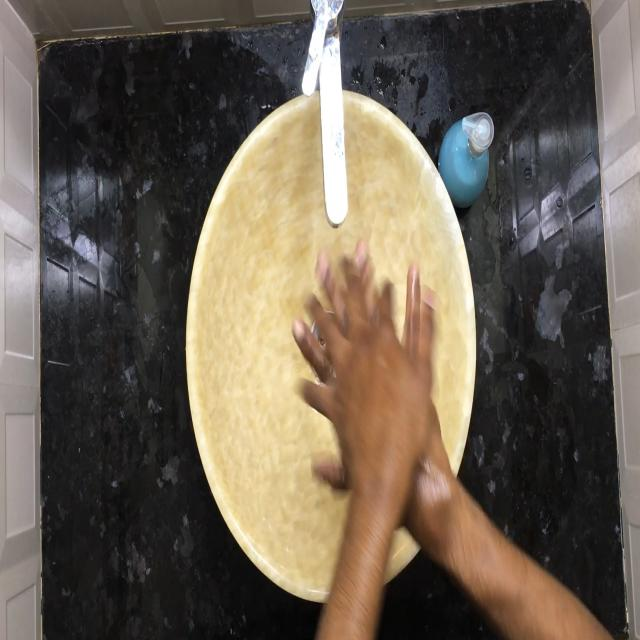step_2: (291, 225, 437, 496)
